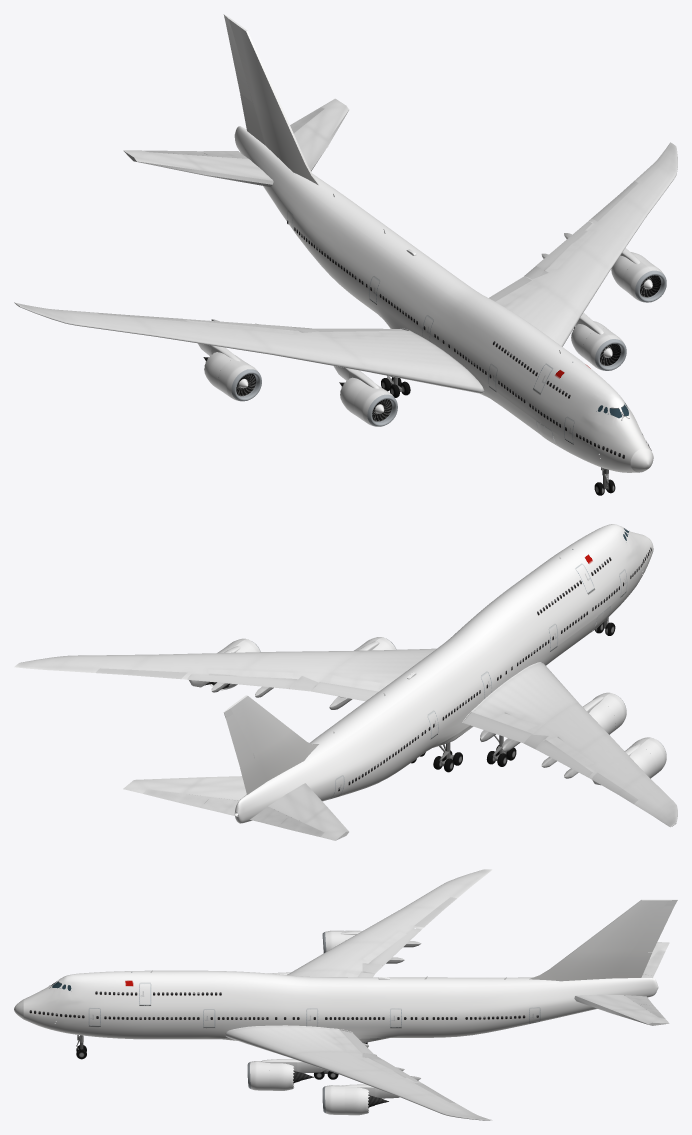
File: 747-8i-balanced-a2e065e49f9e.glb
3 renders of one model, top to bottom at view 1: azimuth 30°, elevation 25°; view 2: azimuth 150°, elevation 25°; view 3: azimuth 270°, elevation 25°, orthographic. The views are drawn at different scales.
Visible parts, largest first — view 1: Fuselage, Wings, HorizontalTail, VerticalTail, EnginePortInner, EngineStarboardOuter, EngineStarboardInner, EnginePortOuter, LandingGear; view 2: Fuselage, Wings, HorizontalTail, VerticalTail, LandingGear, EngineStarboardOuter, EngineStarboardInner, EnginePortInner; view 3: Fuselage, Wings, VerticalTail, EnginePortInner, HorizontalTail, EnginePortOuter, EngineStarboardOuter.
Boxes of the visible parts, x1,y1,x2,y2 form: Fuselage: [234, 126, 653, 472]; Wings: [14, 142, 677, 393]; HorizontalTail: [123, 98, 348, 186]; VerticalTail: [223, 14, 318, 185]; EnginePortInner: [198, 248, 640, 388]; EngineStarboardOuter: [204, 352, 261, 401]; EngineStarboardInner: [339, 377, 397, 426]; EnginePortOuter: [611, 252, 666, 302]; LandingGear: [381, 375, 615, 495]; Fuselage: [234, 524, 653, 823]; Wings: [14, 648, 677, 827]; HorizontalTail: [123, 776, 348, 840]; VerticalTail: [223, 695, 318, 794]; LandingGear: [411, 617, 615, 772]; EngineStarboardOuter: [625, 737, 666, 778]; EngineStarboardInner: [589, 692, 626, 734]; EnginePortInner: [189, 637, 640, 785]; Fuselage: [14, 970, 658, 1042]; Wings: [225, 869, 492, 1120]; VerticalTail: [529, 899, 677, 981]; EnginePortInner: [247, 931, 399, 1104]; HorizontalTail: [574, 942, 669, 1025]; EnginePortOuter: [322, 1085, 375, 1115]; EngineStarboardOuter: [322, 930, 359, 952].
Bounding box in the file's own units: 68.4 × 20.02 × 76.55.
Materials: 6 (2 with a texture image).
